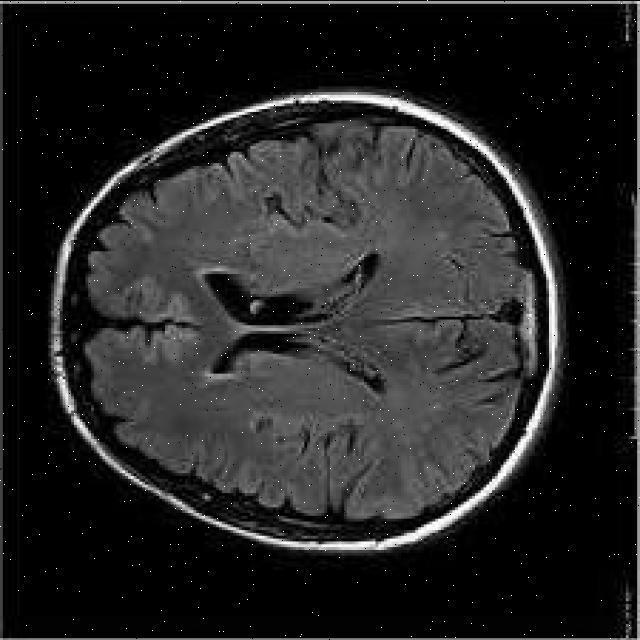No_Tumor: (49, 91, 564, 552)
